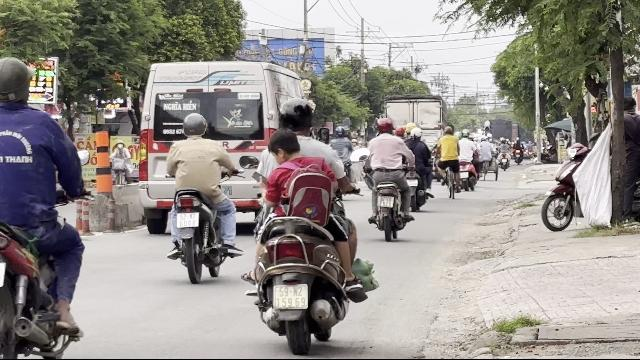helmet: (276, 97, 314, 133), (181, 112, 207, 136), (376, 117, 394, 134)
licenseplate: (274, 284, 308, 310), (177, 212, 200, 228), (378, 195, 394, 209)
motorcyclist: (239, 96, 379, 356), (163, 110, 240, 281), (363, 116, 415, 240)
nohelmet: (266, 128, 302, 164)
